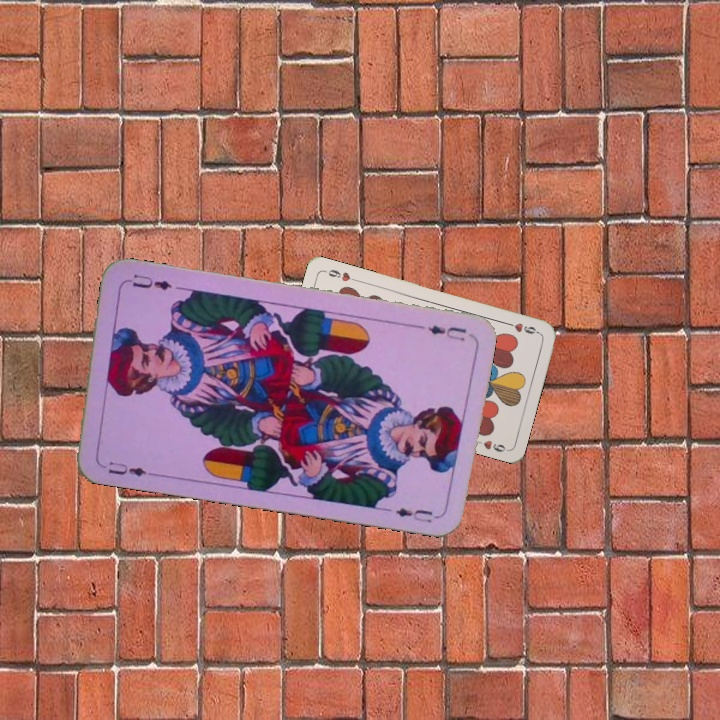EU: (96, 457, 149, 479), (424, 321, 469, 344)
H9: (502, 318, 542, 337)
